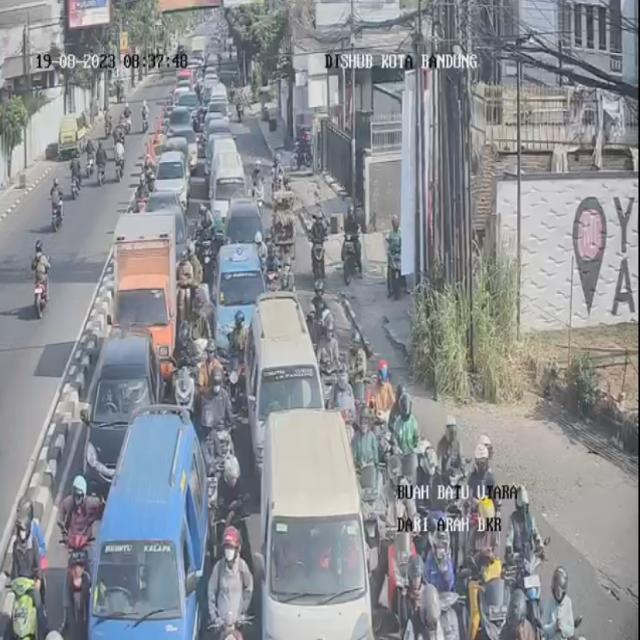cars: (83, 414, 203, 640), (256, 412, 372, 640), (80, 331, 158, 495), (250, 296, 322, 458), (115, 229, 179, 367), (215, 240, 269, 360), (227, 191, 270, 281), (212, 149, 248, 239), (156, 148, 190, 206), (205, 127, 236, 180), (168, 105, 196, 160), (163, 134, 193, 169), (176, 88, 199, 125), (205, 106, 228, 129), (207, 85, 227, 111)
motorcycle: (199, 359, 237, 523), (507, 490, 548, 640), (203, 518, 254, 638), (6, 499, 43, 640), (384, 513, 421, 640), (466, 442, 500, 575), (350, 399, 384, 527), (412, 433, 448, 551), (42, 386, 78, 496), (312, 305, 344, 419), (62, 476, 96, 582), (379, 458, 408, 562), (371, 360, 398, 463), (212, 452, 238, 551), (394, 394, 420, 488), (332, 368, 359, 458), (174, 323, 200, 414), (397, 575, 433, 640), (440, 414, 463, 506), (547, 566, 573, 640), (270, 212, 295, 287), (190, 290, 212, 369), (307, 208, 328, 286), (191, 202, 213, 271), (228, 311, 250, 378), (311, 282, 332, 337), (251, 158, 268, 214), (134, 168, 149, 212)
